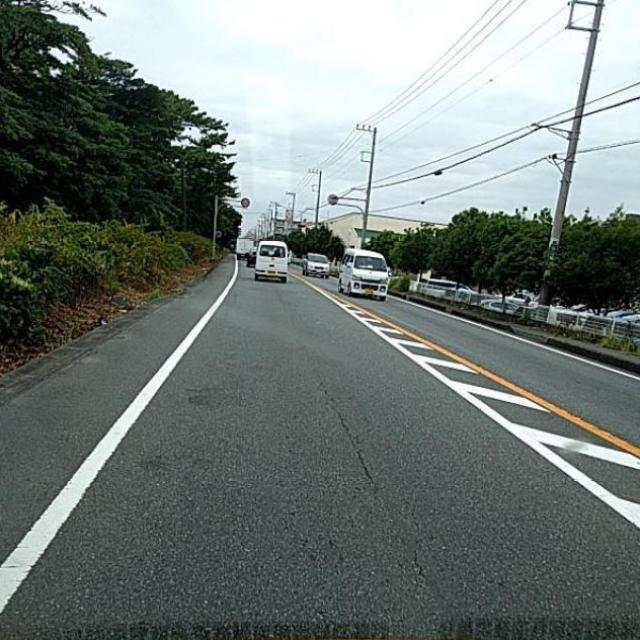Memanjang: (303, 360, 386, 494)
